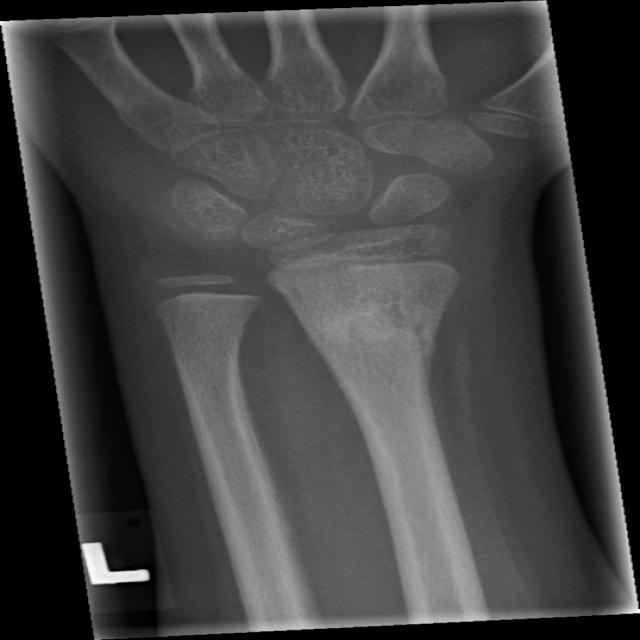radius fracture: (279, 290, 494, 401)
